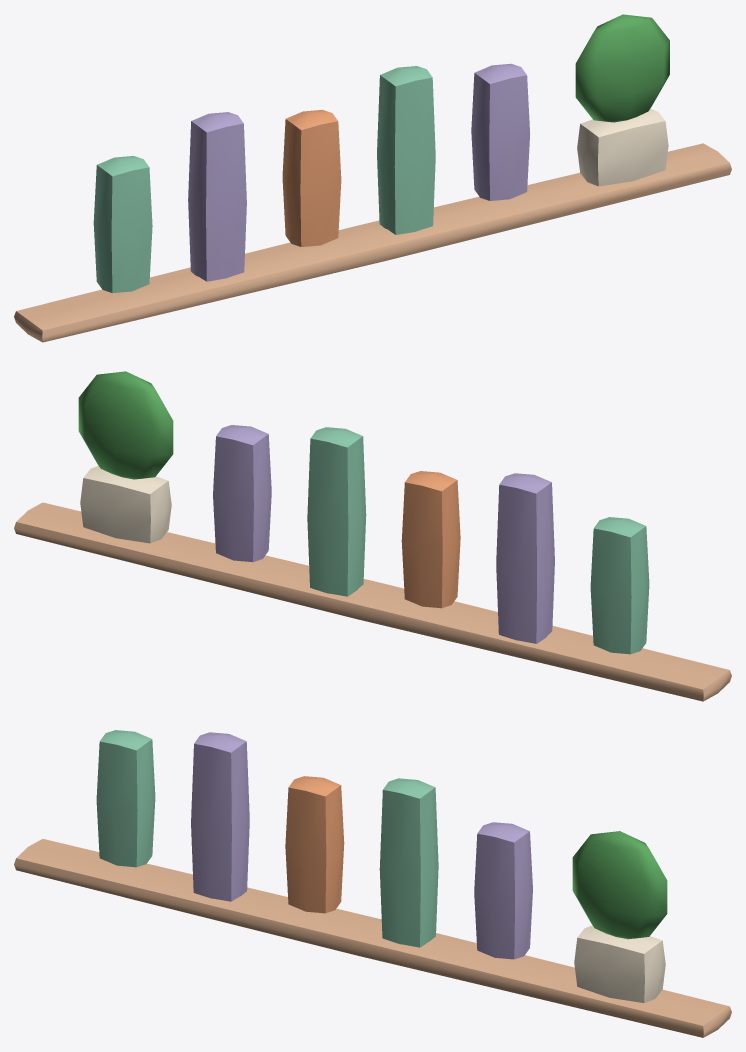
File: wall-shelf.glb
3 views of the same model, one above another, from view 1: azimuth 30°, elevation 25°; view 2: azimuth 150°, elevation 25°; view 3: azimuth 330°, elevation 25° (orthographic).
Visible parts, largest first — view 1: part (×7), detail; view 2: part (×7), detail; view 3: part (×7), detail.
Part boxes in pixels (x1,y1,x2,y2): part (×7): [14, 63, 731, 342]; detail: [575, 14, 669, 122]; part (×7): [14, 425, 731, 701]; detail: [78, 371, 173, 479]; part (×7): [14, 730, 731, 1037]; detail: [572, 831, 667, 939].
Size of the model in its own units: 1.4 by 0.345 by 0.11.
1 material, 1 textured.
